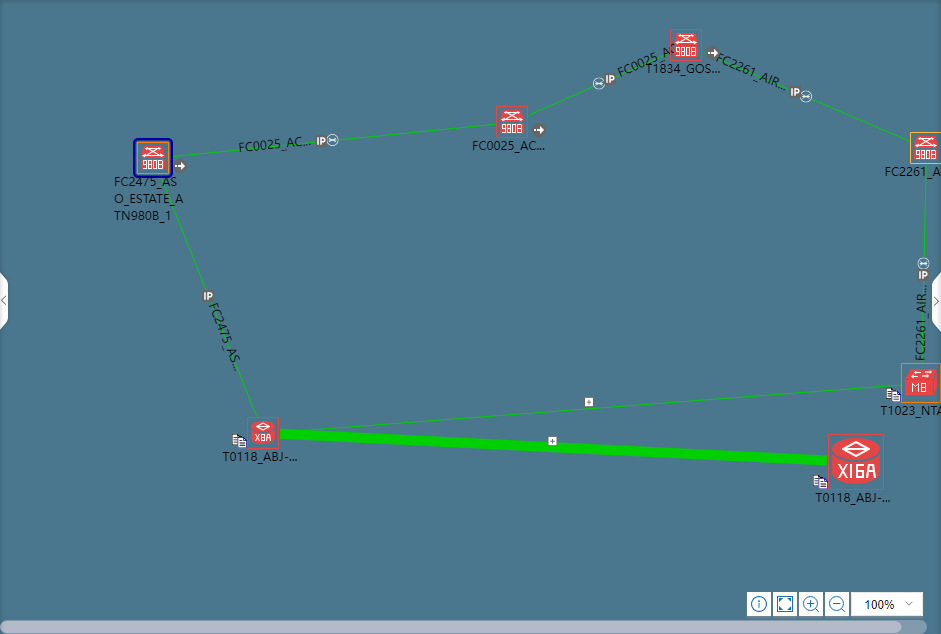ATN_Red: (909, 132, 940, 166), (497, 108, 531, 135), (668, 32, 701, 58), (138, 144, 165, 171)
Link_Green: (319, 379, 897, 430), (162, 179, 260, 418), (291, 426, 826, 464), (715, 55, 913, 141), (173, 120, 493, 157), (532, 49, 672, 119), (920, 167, 931, 323)
Router_Red: (832, 438, 882, 488), (250, 420, 284, 446)
Switch_Red: (903, 367, 940, 399)
